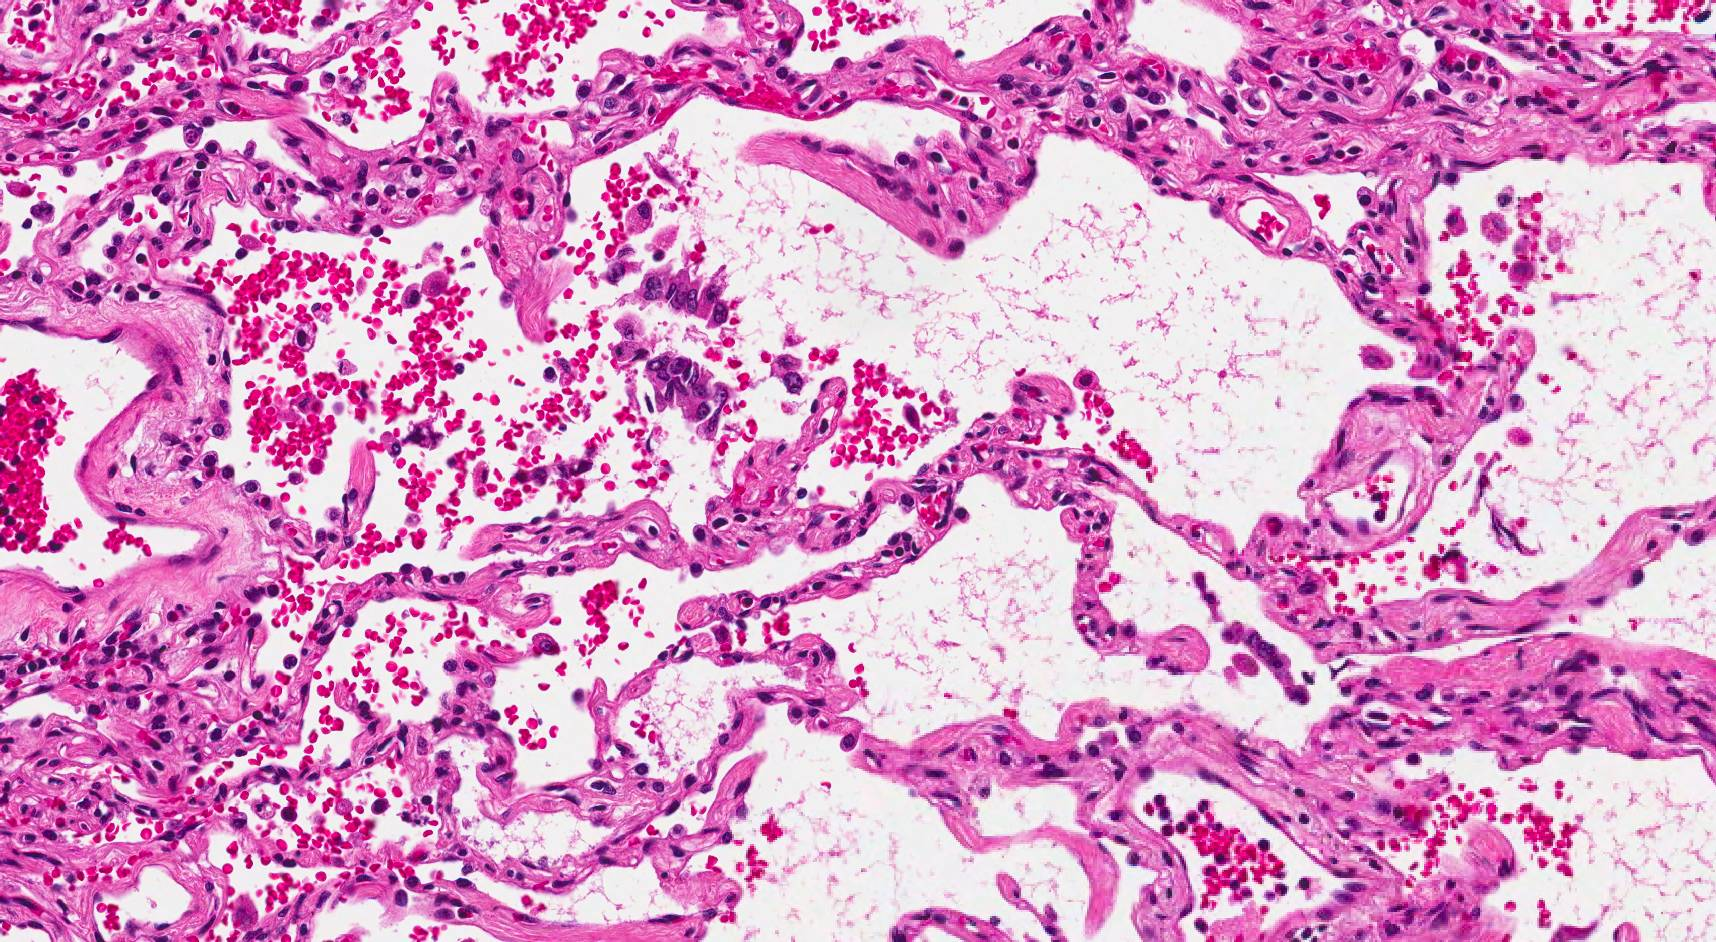stas: (1191, 570, 1314, 707), (638, 350, 731, 439), (629, 261, 732, 328), (767, 354, 808, 395)
